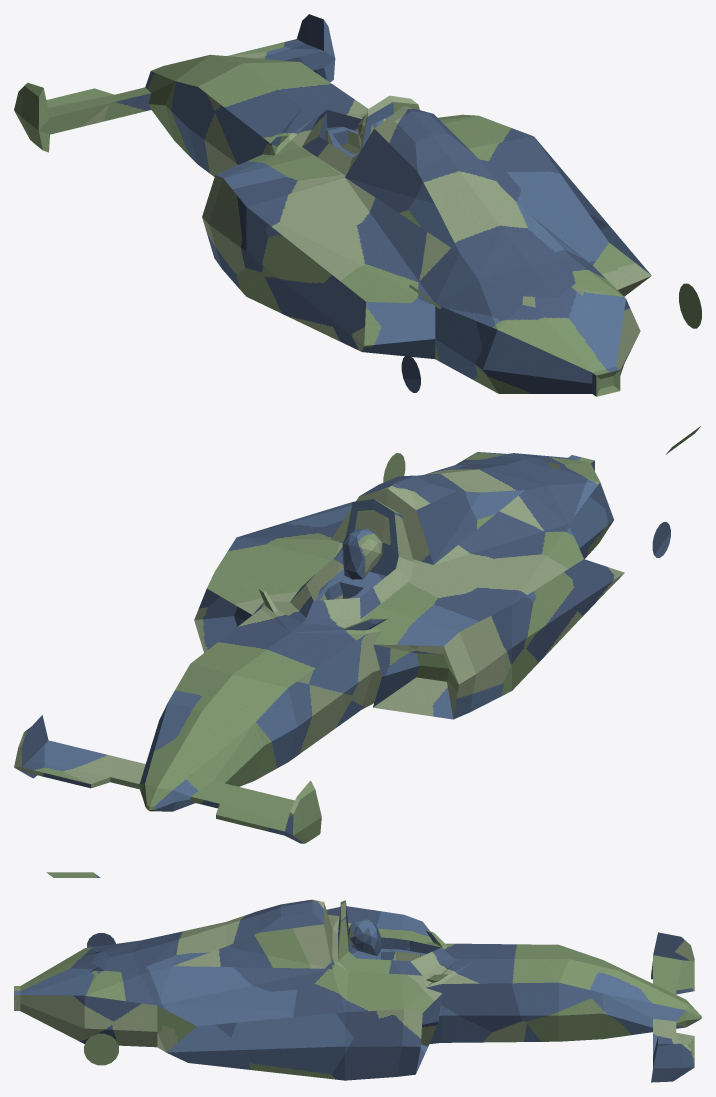
The model's file is chasis.obj.
3 renders of one model, top to bottom at view 1: azimuth 30°, elevation 25°; view 2: azimuth 150°, elevation 25°; view 3: azimuth 270°, elevation 25°, orthographic. The views are drawn at different scales.
Parts seen in each view (by area): view 1: chasis; view 2: chasis; view 3: chasis.
Part boxes in pixels (x1,y1,x2,y2): chasis: (14, 14, 701, 396); chasis: (14, 426, 700, 843); chasis: (14, 872, 701, 1082).
Size of the model in its own units: 1.84 by 1.01 by 4.88.
Materials: 1 (1 with a texture image).
